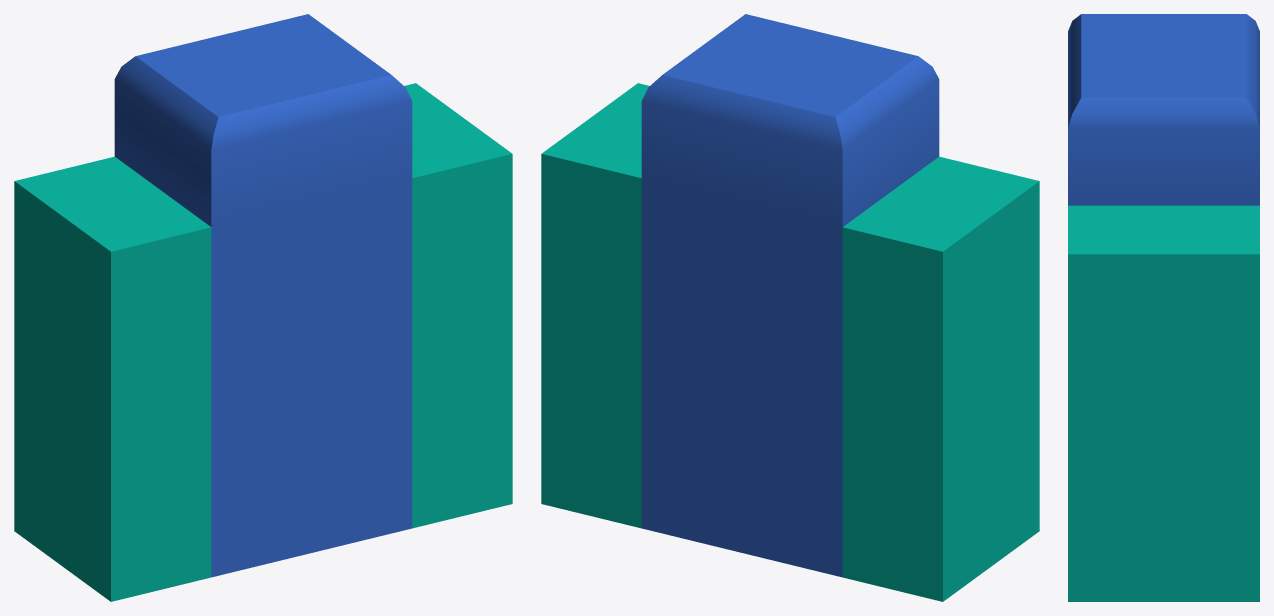
The model's file is CS_Blue_Block.fbx.
The picture shows the model from 3 angles, left to right: view 1: azimuth 30°, elevation 25°; view 2: azimuth 150°, elevation 25°; view 3: azimuth 270°, elevation 25°; orthographic projection.
Parts seen in each view (by area): view 1: Blue_Block; view 2: Blue_Block; view 3: Blue_Block.
Part boxes in pixels (left/top/right/bottom): Blue_Block: left=14, top=14, right=512, bottom=601; Blue_Block: left=541, top=14, right=1039, bottom=601; Blue_Block: left=1068, top=14, right=1259, bottom=601.
Size of the model in its own units: 60 by 64.55 by 25.
